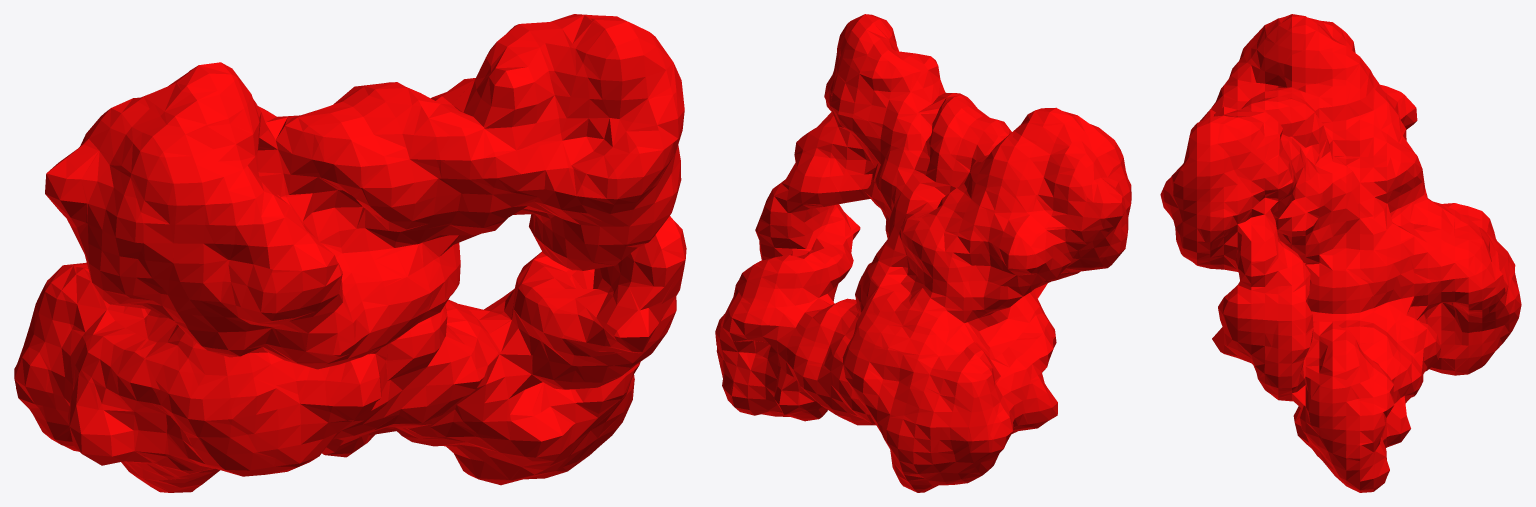
File: mnmA_coarse.dae
The picture shows the model from 3 angles, left to right: view 1: azimuth 30°, elevation 25°; view 2: azimuth 150°, elevation 25°; view 3: azimuth 270°, elevation 25°; orthographic projection. The views are drawn at different scales.
Parts seen in each view (by area): view 1: mnmA; view 2: mnmA; view 3: mnmA.
Boxes of the visible parts, x1=… form: mnmA: x1=14, y1=14, x2=686, y2=492; mnmA: x1=715, y1=14, x2=1131, y2=492; mnmA: x1=1160, y1=14, x2=1521, y2=492.
Size of the model in its own units: 114 by 98.32 by 91.42.
